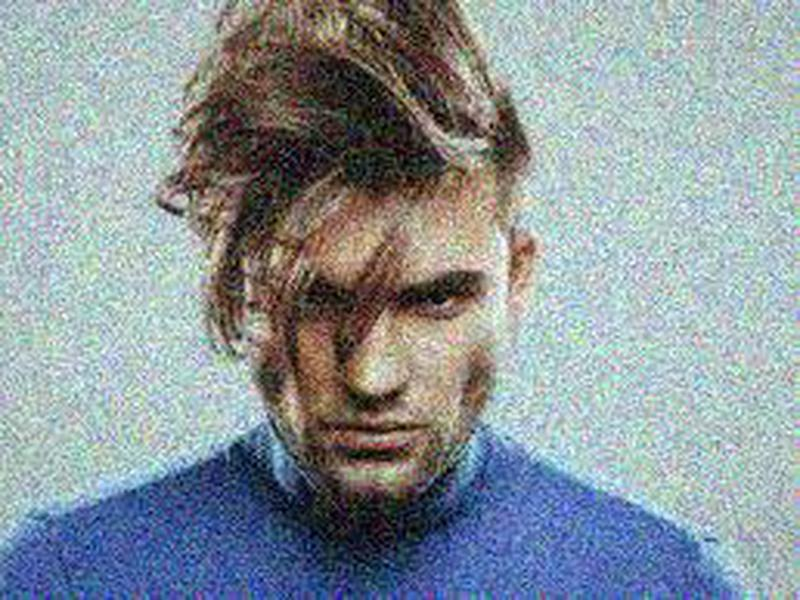without_mask: (258, 162, 503, 506)
